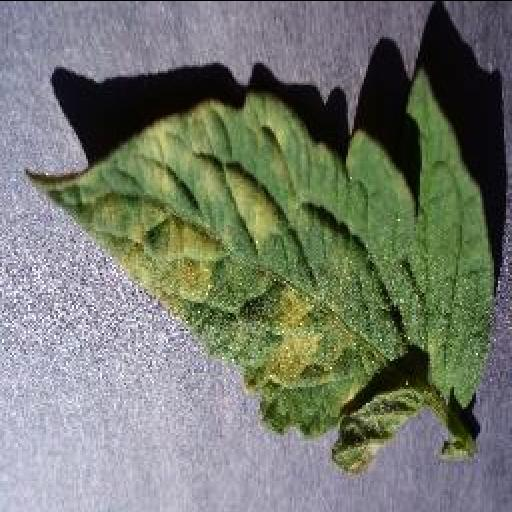disease_tomato: (26, 66, 496, 474)
